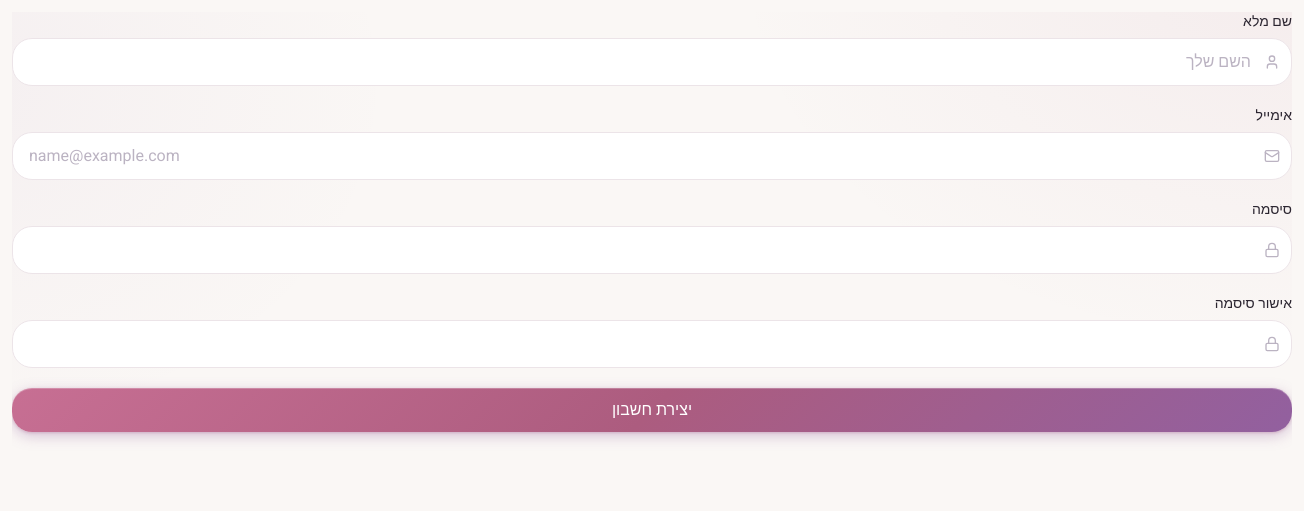
Test case: SignupForm › renders per-field errors and focuses the first invalid field
The width and height of the screenshot is (1304, 511).
Click the button "יצירת חשבון". click: coordinates (652, 410)
box: left=12, top=388, right=1292, bottom=432
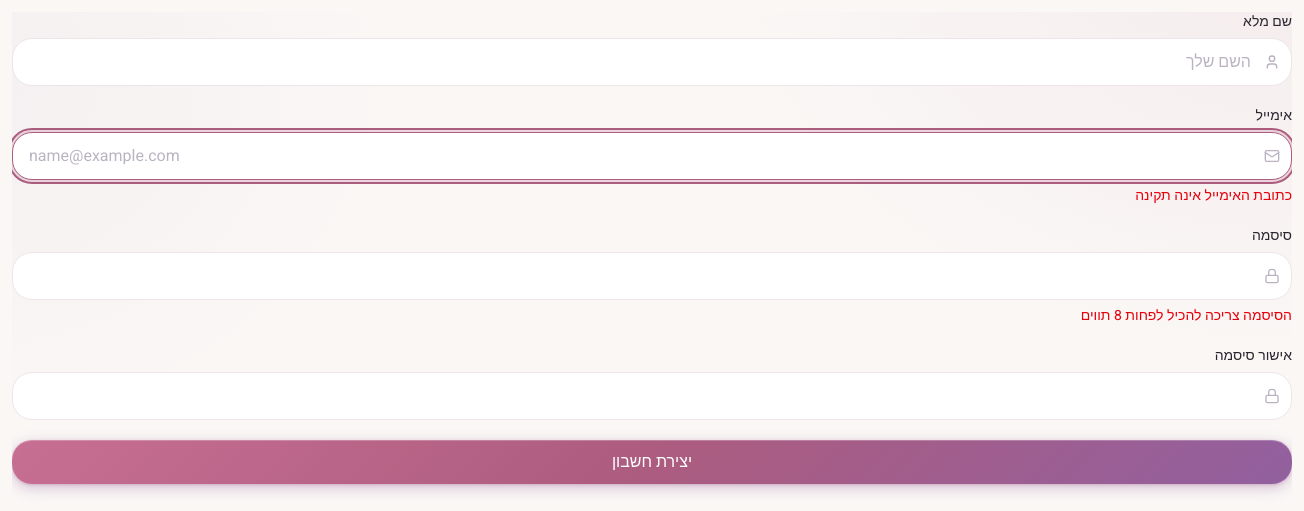
Now the text "כתובת האימייל אינה תקינה" is shown, box left=1135, top=185, right=1292, bottom=206
Now the text "הסיסמה צריכה להכיל לפחות 8 תווים" is shown, box left=1081, top=305, right=1292, bottom=326
